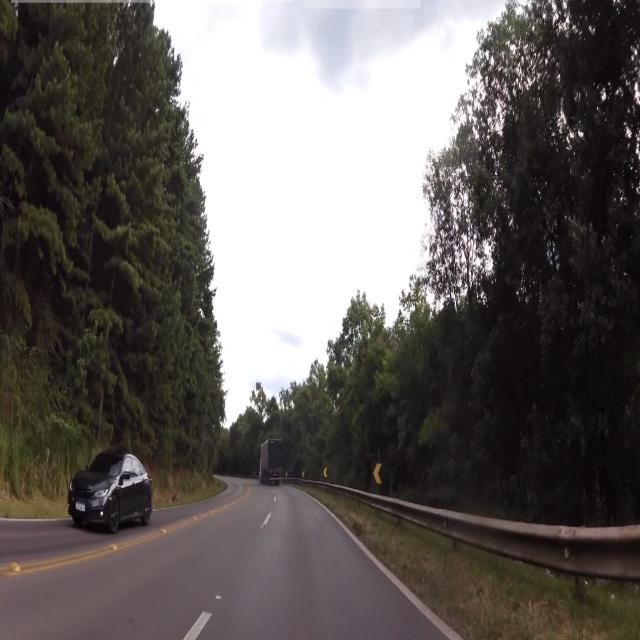Del: (371, 454, 386, 489)
